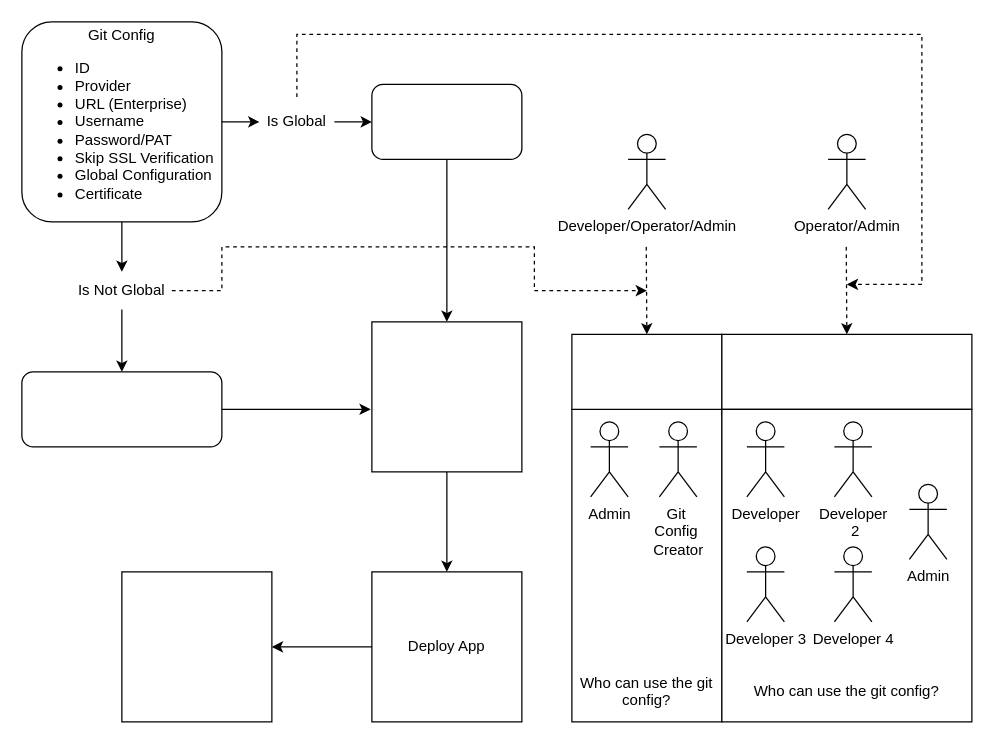
Image size: 994x744. Some labels were removed from this diagram. The shapes that lost their labels are listed below. From the top down, each one's centre as x and y in pixels, then its label:
pixel 446 121: Anyone with application creation access
pixel 646 371: Create Git Config without Global Flag
pixel 846 371: Create Git Config with Global Flag
pixel 121 409: Creator/Admin Access
pixel 446 396: Select git config based on access
pixel 196 646: Created App can be rebuilt without access to specific Git Config
